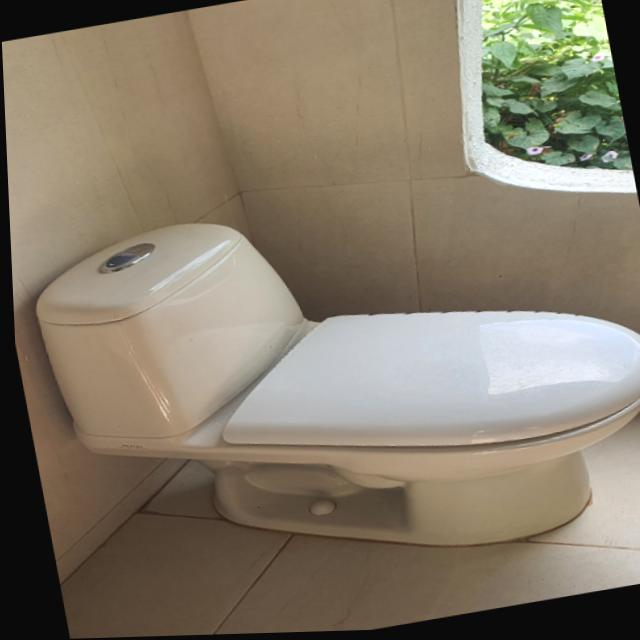toilet: (19, 150, 640, 614)
